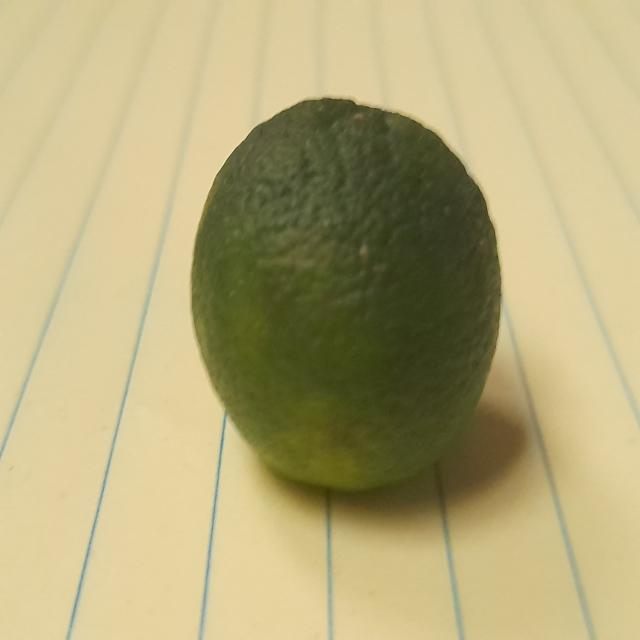heathy: (175, 78, 516, 500)
